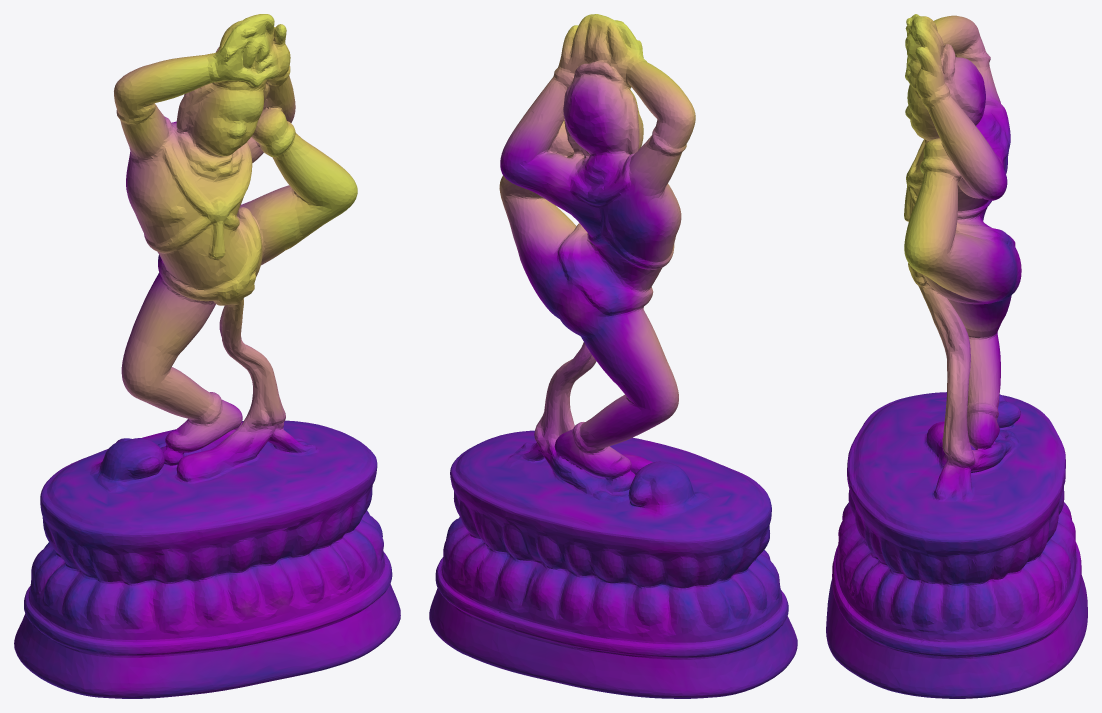
Rendered from iter_14.glb.
3 views of the same model, side by side, from view 1: azimuth 30°, elevation 25°; view 2: azimuth 150°, elevation 25°; view 3: azimuth 270°, elevation 25° (orthographic). The views are drawn at different scales.
Visible parts, largest first — view 1: textured_mesh; view 2: textured_mesh; view 3: textured_mesh.
Part boxes in pixels (x1,y1,x2,y2): textured_mesh: [14, 14, 400, 698]; textured_mesh: [429, 14, 797, 698]; textured_mesh: [826, 14, 1087, 698].
Bounding box in the file's own units: 1.16 × 1.99 × 0.7715.
